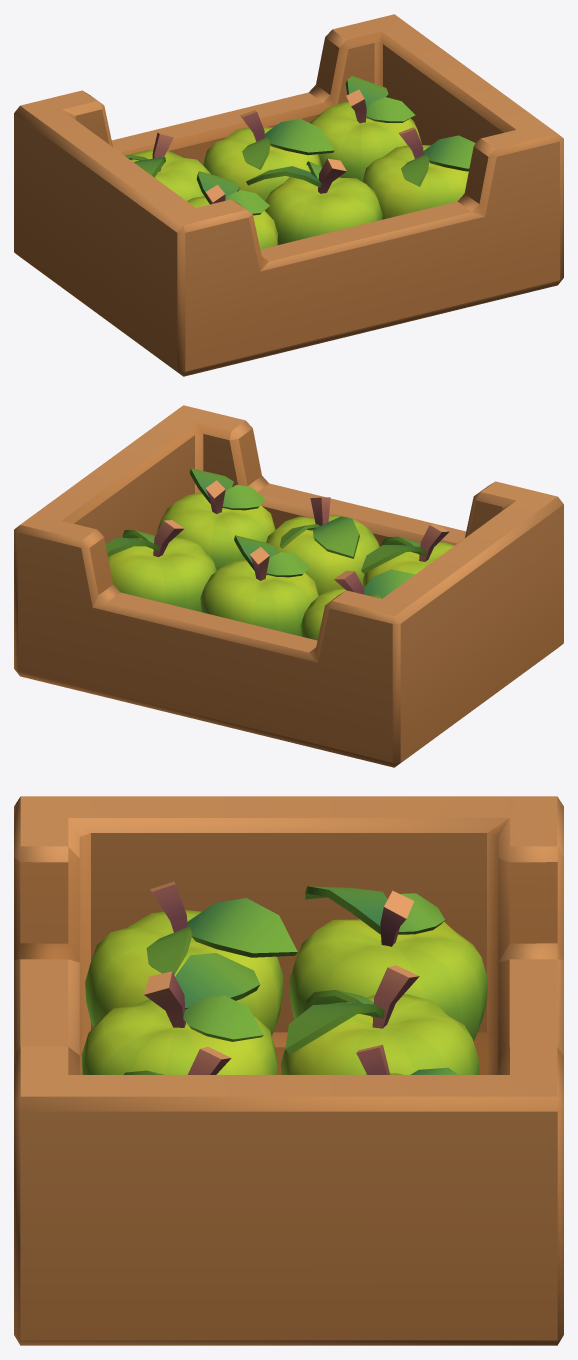
The model's file is Fruit_Crate_Apples_02.fbx.
3 views of the same model, one above another, from view 1: azimuth 30°, elevation 25°; view 2: azimuth 150°, elevation 25°; view 3: azimuth 270°, elevation 25° (orthographic). The views are drawn at different scales.
Visible parts, largest first — view 1: Fruit_Crate_Apples_02; view 2: Fruit_Crate_Apples_02; view 3: Fruit_Crate_Apples_02.
Boxes of the visible parts, bbox=[...] form: Fruit_Crate_Apples_02: bbox=[14, 14, 563, 376]; Fruit_Crate_Apples_02: bbox=[14, 405, 563, 767]; Fruit_Crate_Apples_02: bbox=[14, 796, 563, 1345].
Size of the model in its own units: 1.6 by 0.5992 by 1.2.
